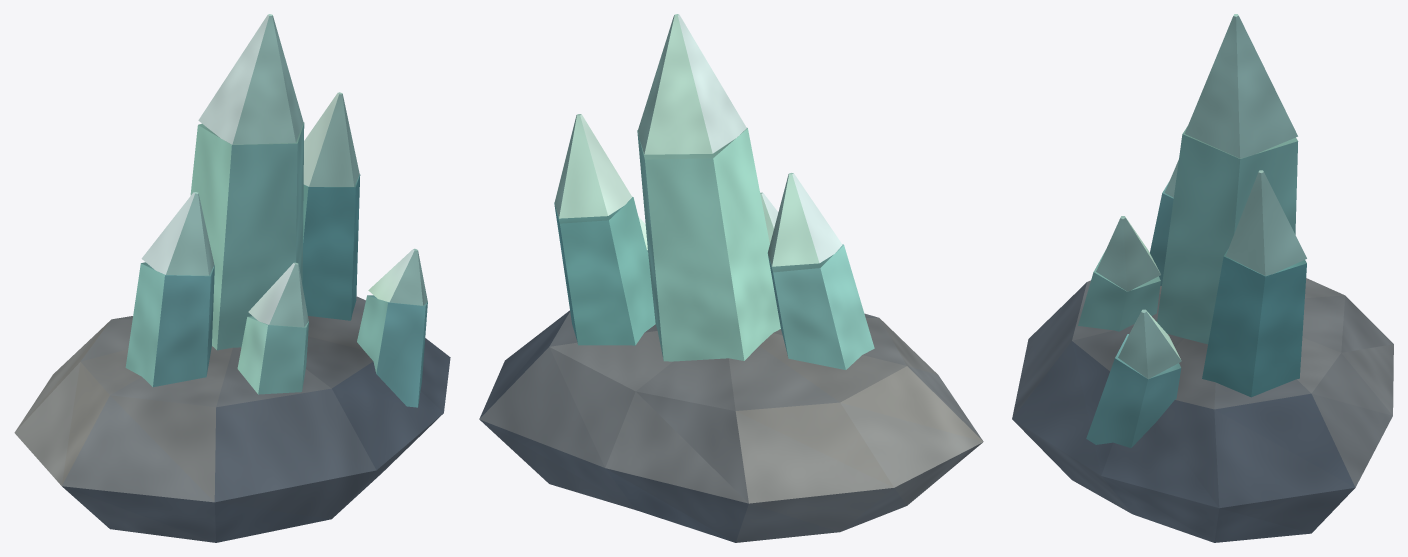
The model's file is resource_crystal.glb.
The picture shows the model from 3 angles, left to right: view 1: azimuth 30°, elevation 25°; view 2: azimuth 150°, elevation 25°; view 3: azimuth 270°, elevation 25°; orthographic projection. The views are drawn at different scales.
Parts seen in each view (by area): view 1: Türkises Kristallnest; view 2: Türkises Kristallnest; view 3: Türkises Kristallnest.
Part boxes in pixels (<box>): Türkises Kristallnest: <box>14,14,450,542</box>; Türkises Kristallnest: <box>479,14,983,542</box>; Türkises Kristallnest: <box>1012,14,1393,542</box>.
Bounding box in the file's own units: 1.24 × 1.31 × 0.9123.
Materials: 1 (1 with a texture image).
